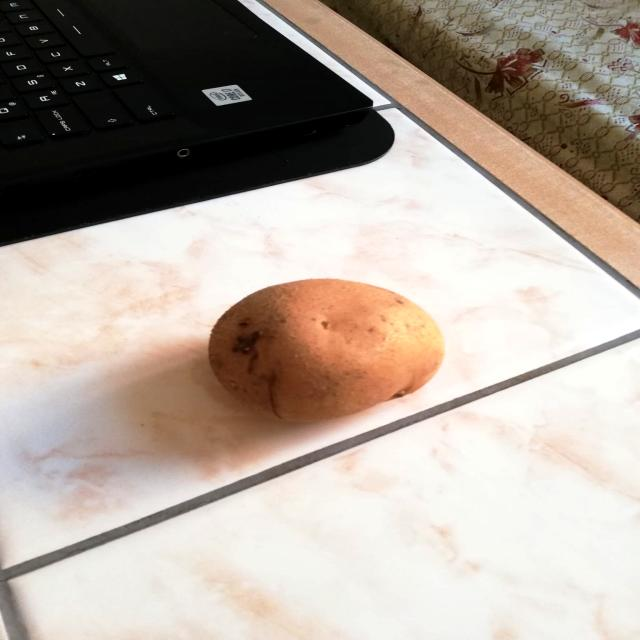potato: (203, 265, 454, 426)
